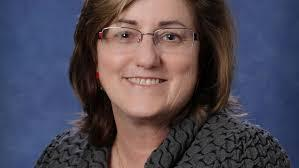normalEye: (101, 14, 195, 54)
normalMouth: (114, 68, 177, 93)
